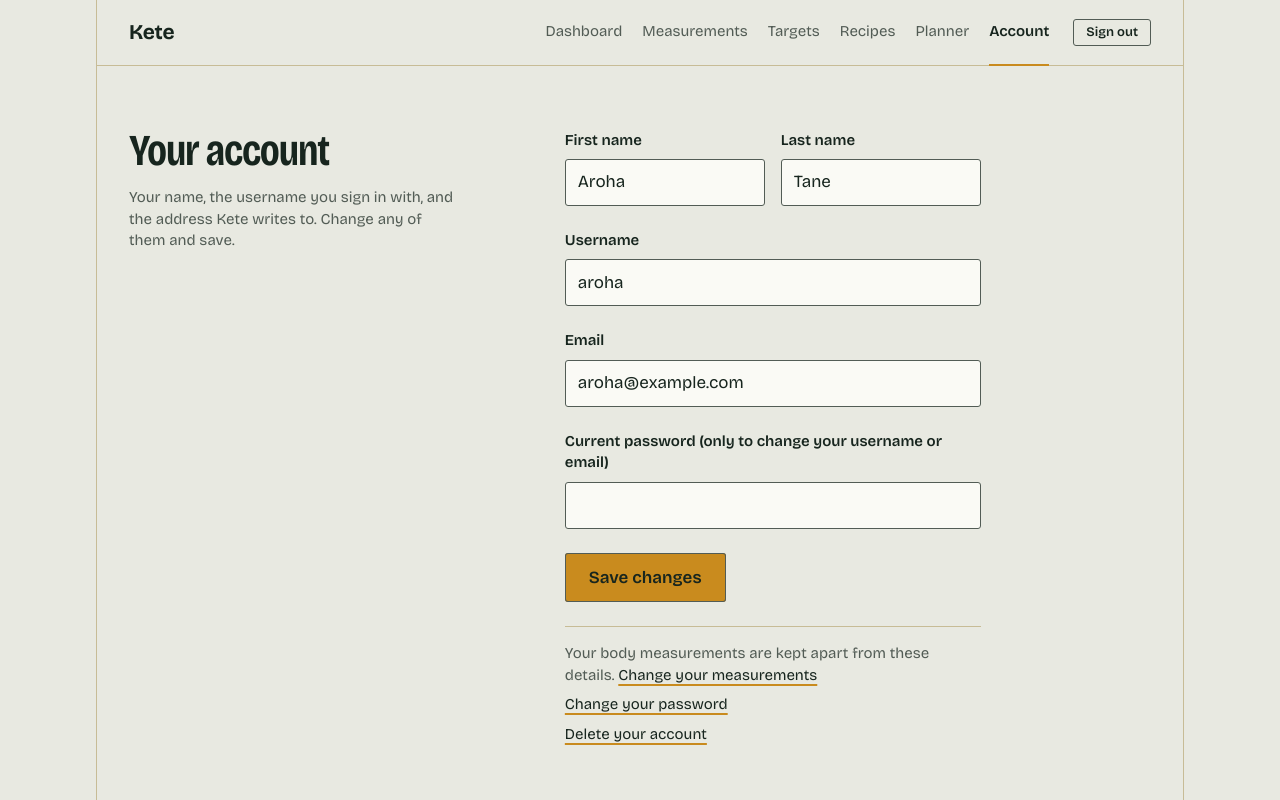
focus after a write › puts focus back on the button after a refusal
Replace the text in the field labelled "Username" with "aroha-t": coordinates (773, 283) [565,259,981,306]
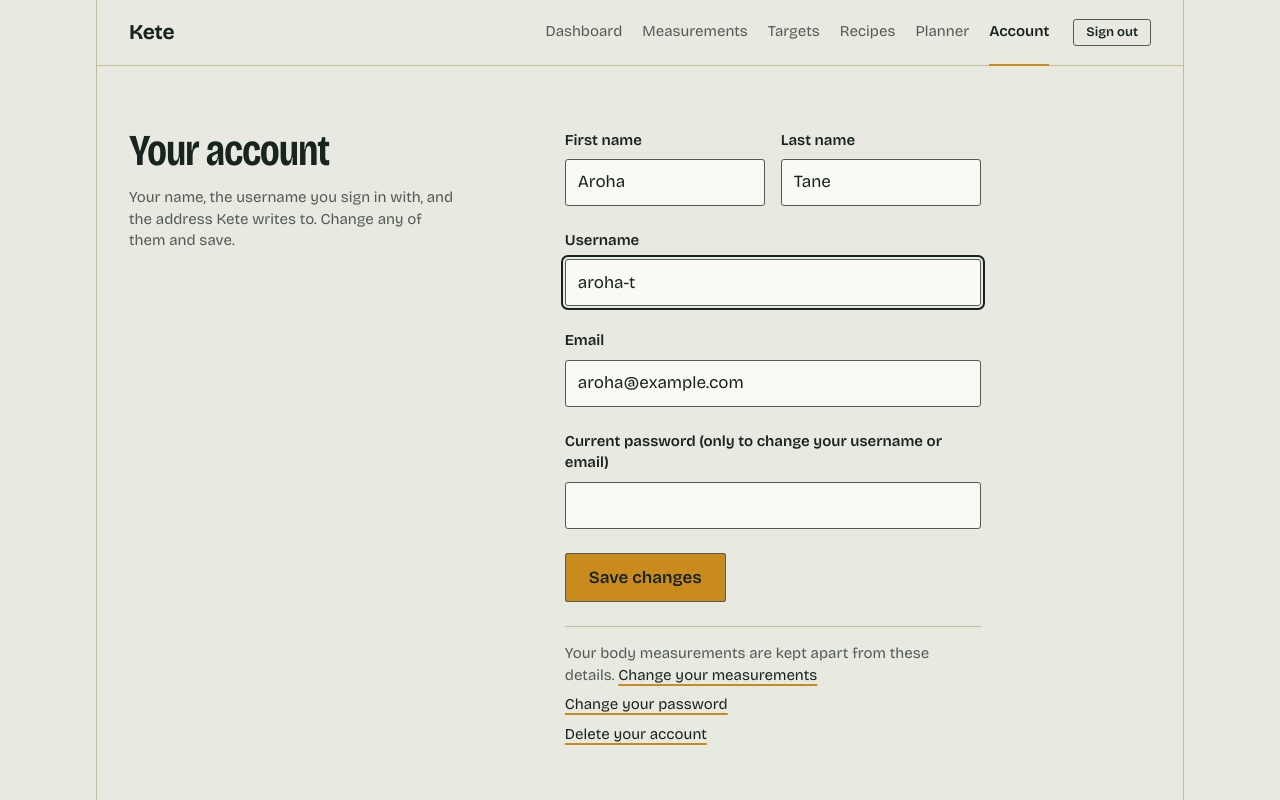
Click the button "Save changes": coordinates (645, 578) [565,553,726,602]
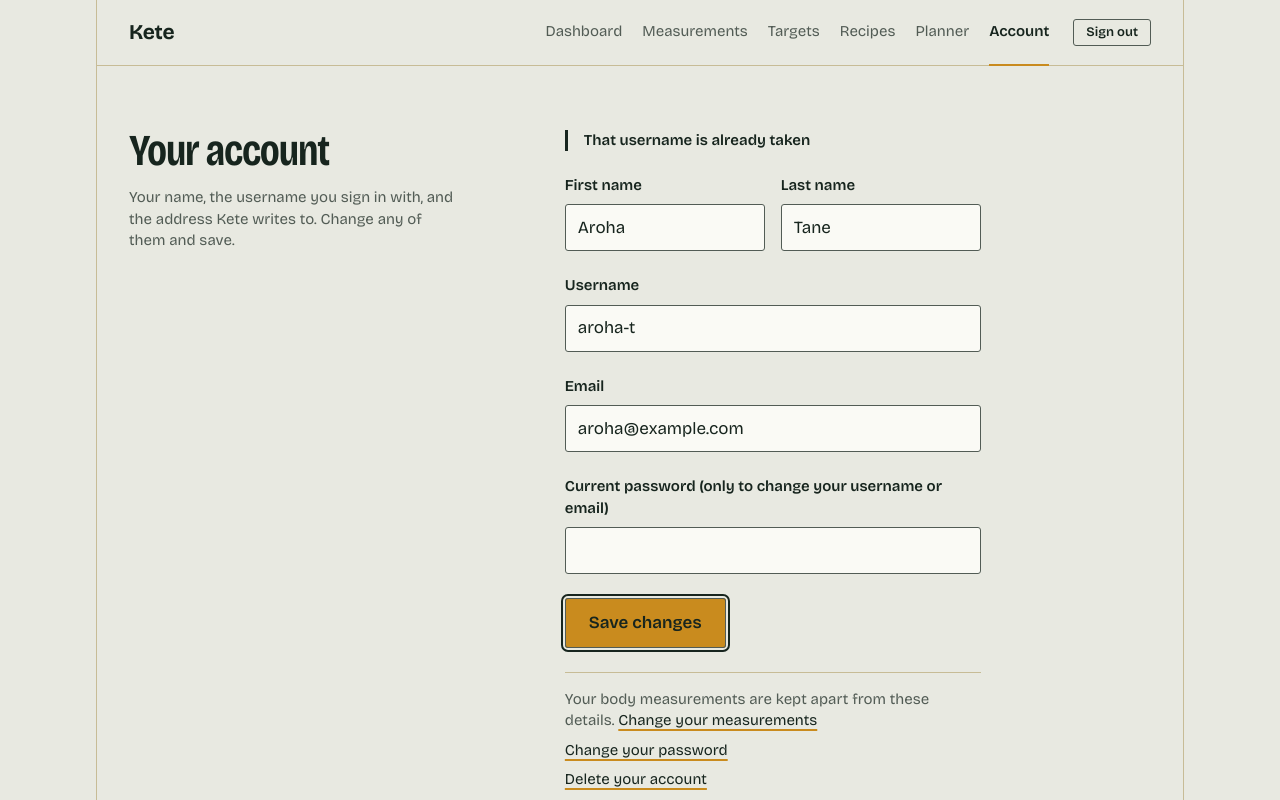
Result: the message "That username is already taken" is shown at [565,130,981,151]
